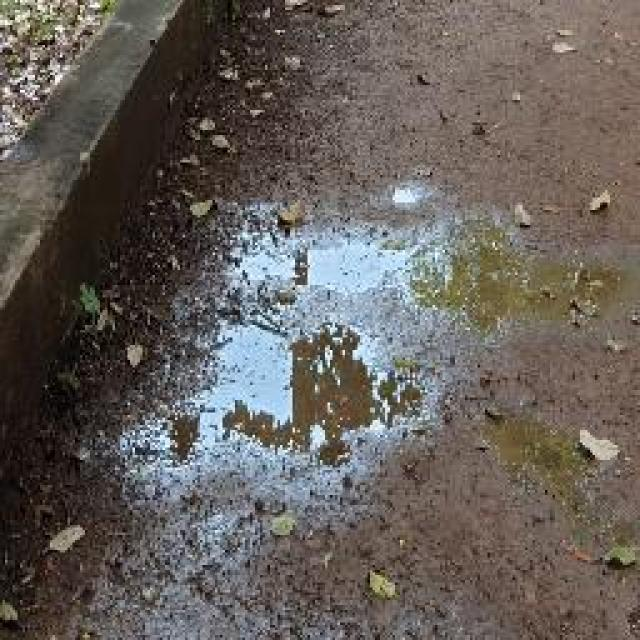waterlogging: (123, 312, 450, 496), (218, 206, 635, 303)
